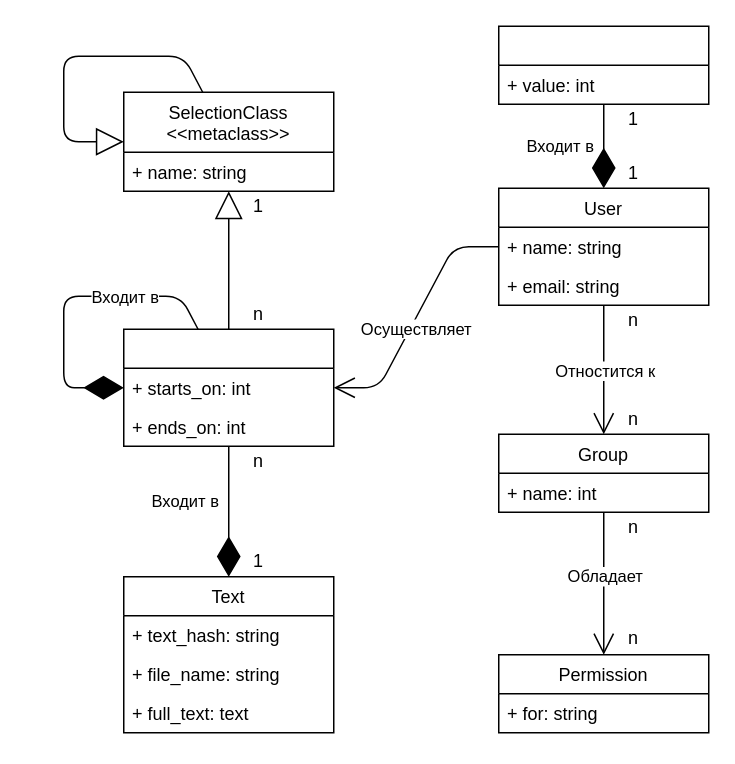
This 735x764 diagram has some shape labels left out. Here are the shapes that lost their labels. From the top down, the box of each, then its label:
(497, 25, 709, 104): Password
(122, 328, 334, 446): Selection
